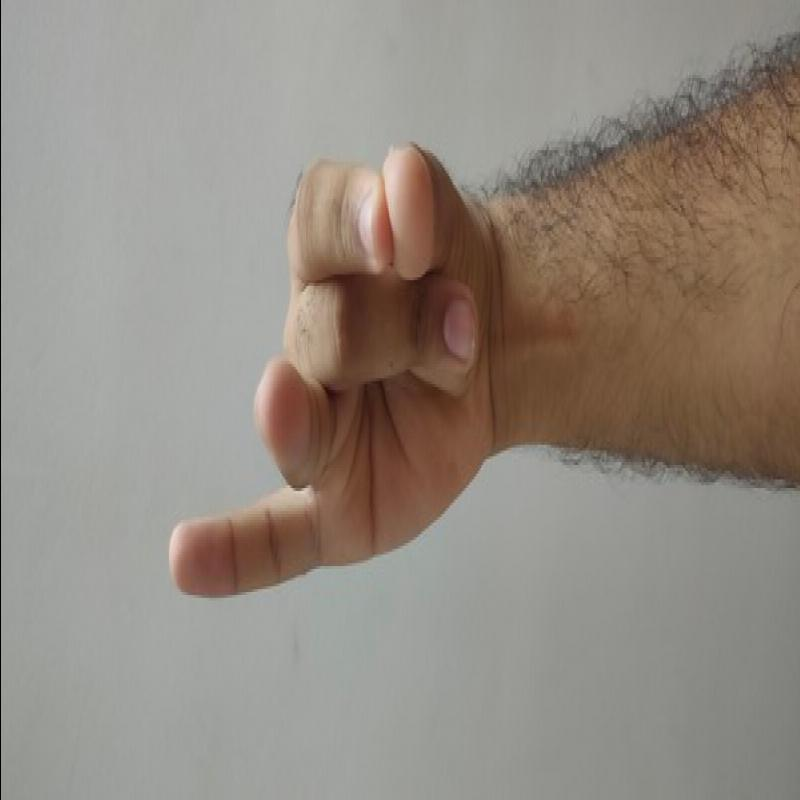Katakam: (134, 107, 523, 616)
